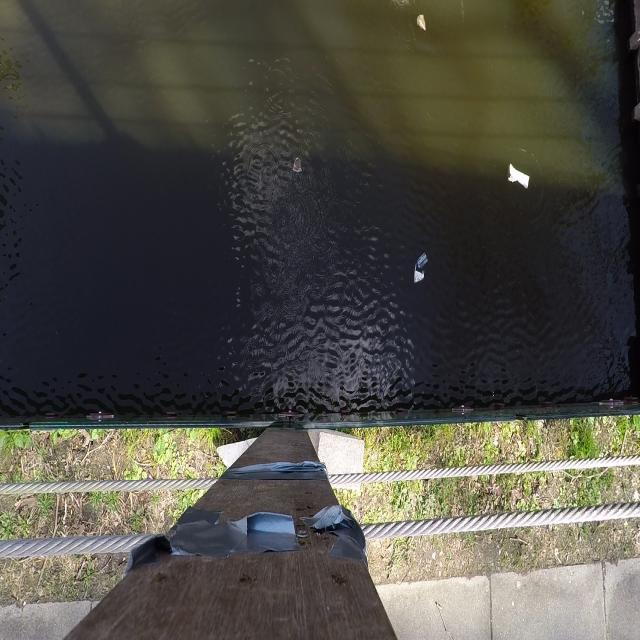Non plastique: (290, 152, 304, 179)
